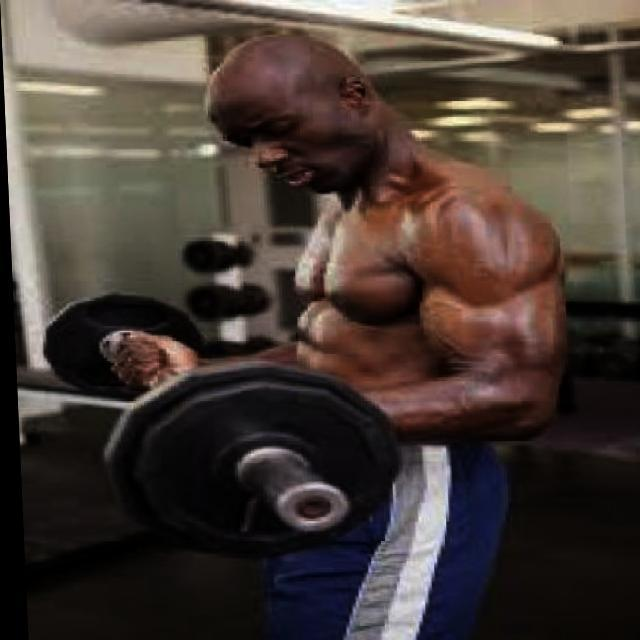barbell: (94, 361, 405, 546)
